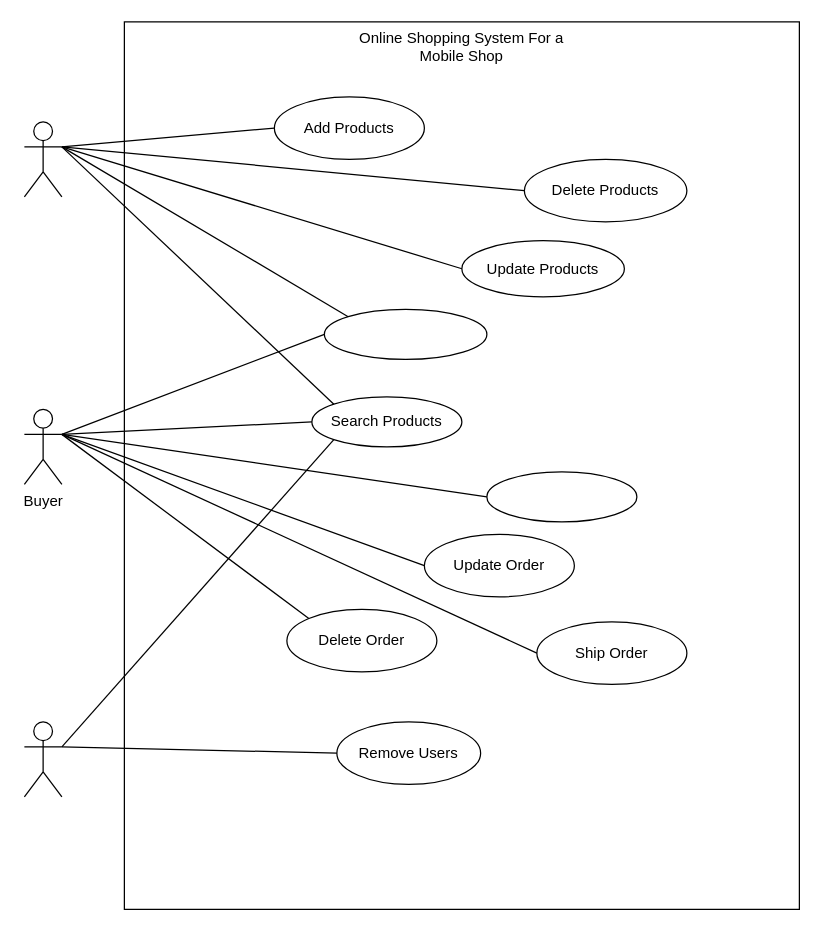
Image size: 821x931. Some labels were removed from this diagram. Here are the shapes that lost their labels. From the top down, the box of each, then its label:
(23, 121, 62, 197): Seller
(323, 308, 487, 359): Register
(486, 471, 637, 522): Place Order
(23, 721, 62, 797): Admin
